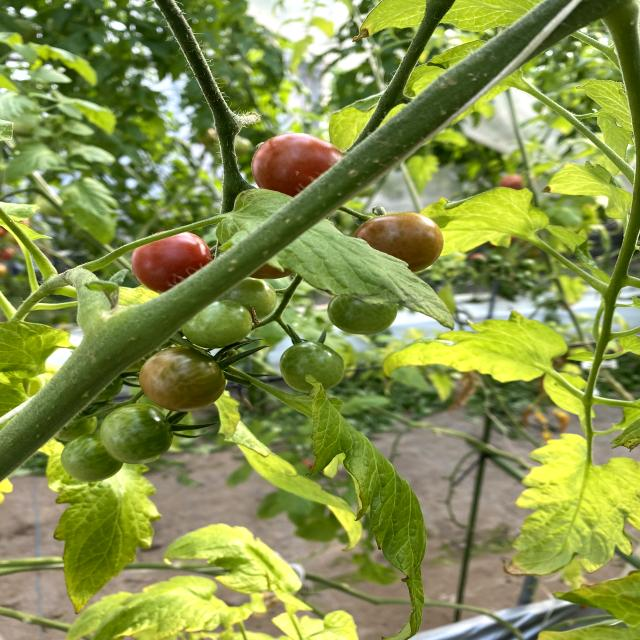ripe1: (140, 344, 226, 410), (356, 213, 438, 269)
ripe2: (253, 133, 338, 194), (134, 235, 207, 293)
